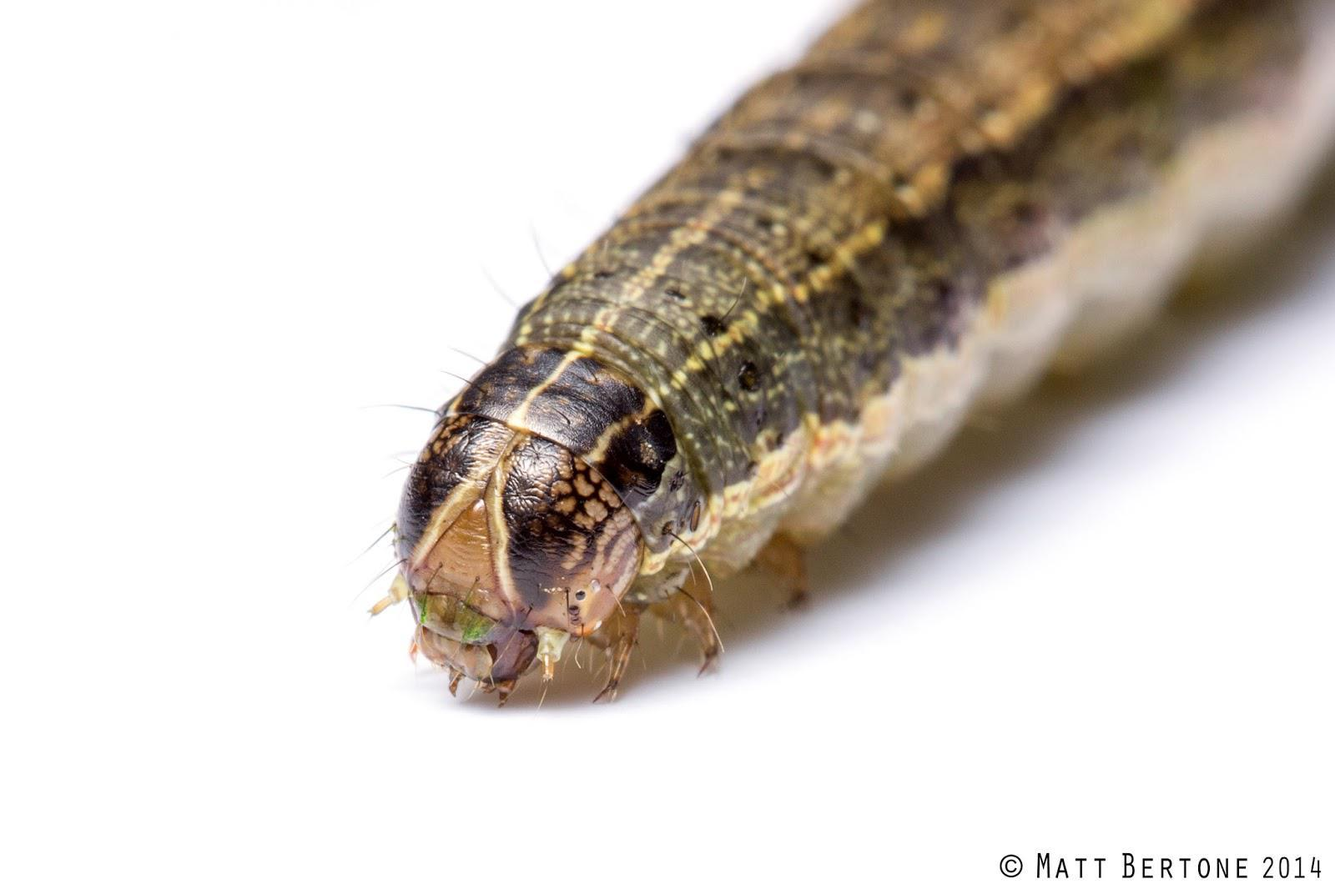caterpillars: (292, 0, 1335, 801)
